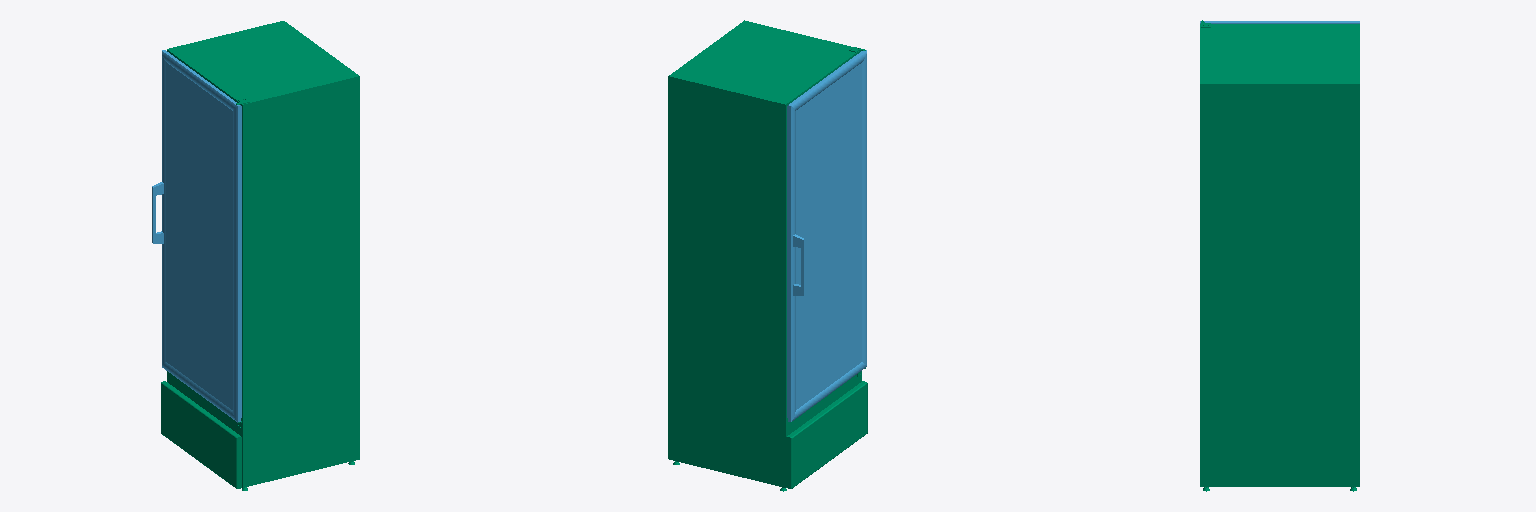
--- Facts derived from the render (not from the file) ---
3 views of the same robot in one strip: view 1: azimuth 30°, elevation 25°; view 2: azimuth 150°, elevation 25°; view 3: azimuth 270°, elevation 25° (orthographic).
Model partnet_93d69af3c0034d3d9807c66948157e66 with 3 links and 2 joints (1 revolute, 1 fixed), rooted at base, posed all joints at 0.
Visible links, largest first — view 1: link_1, link_0; view 2: link_1, link_0; view 3: link_1.
Link boxes in pixels (x1,y1,x2,y2): link_1: (161,21,359,490); link_0: (152,50,241,422); link_1: (668,20,867,491); link_0: (787,50,866,421); link_1: (1200,20,1359,491).
Size in the robot's own frame: 0.6791 by 0.67 by 1.89 metres.
120 mesh visuals loaded from 120 distinct referenced files (120 OBJ).

The robot description file, URDF, robot "partnet_93d69af3c0034d3d9807c66948157e66":
<?xml version="1.0" ?>
<robot name="partnet_93d69af3c0034d3d9807c66948157e66">
	<link name="base"/>
	<link name="link_0">
		<visual name="door_frame-10">
			<origin xyz="-0.32121962673618376 -0.9194099903106691 -0.30380600011286474"/>
			<geometry>
				<mesh filename="textured_objs/original-13.obj"/>
			</geometry>
		</visual>
		<visual name="handle-11">
			<origin xyz="-0.32121962673618376 -0.9194099903106691 -0.30380600011286474"/>
			<geometry>
				<mesh filename="textured_objs/original-11.obj"/>
			</geometry>
		</visual>
		<visual name="glass-12">
			<origin xyz="-0.32121962673618376 -0.9194099903106691 -0.30380600011286474"/>
			<geometry>
				<mesh filename="textured_objs/original-12.obj"/>
			</geometry>
		</visual>
		<collision>
			<origin xyz="-0.32121962673618376 -0.9194099903106691 -0.30380600011286474"/>
			<geometry>
				<mesh filename="textured_objs/original-13.obj"/>
			</geometry>
		</collision>
		<collision>
			<origin xyz="-0.32121962673618376 -0.9194099903106691 -0.30380600011286474"/>
			<geometry>
				<mesh filename="textured_objs/original-11.obj"/>
			</geometry>
		</collision>
		<collision>
			<origin xyz="-0.32121962673618376 -0.9194099903106691 -0.30380600011286474"/>
			<geometry>
				<mesh filename="textured_objs/original-12.obj"/>
			</geometry>
		</collision>
	</link>
	<joint name="joint_0" type="revolute">
		<origin xyz="0.32121962673618376 0.9194099903106691 0.30380600011286474"/>
		<axis xyz="0 1 0"/>
		<child link="link_0"/>
		<parent link="link_1"/>
		<limit lower="0.0" upper="2.0943951023931953"/>
	</joint>
	<link name="link_1">
		<visual name="foot-4">
			<origin xyz="0 0 0"/>
			<geometry>
				<mesh filename="textured_objs/original-10.obj"/>
			</geometry>
		</visual>
		<visual name="foot-5">
			<origin xyz="0 0 0"/>
			<geometry>
				<mesh filename="textured_objs/original-8.obj"/>
			</geometry>
		</visual>
		<visual name="foot-6">
			<origin xyz="0 0 0"/>
			<geometry>
				<mesh filename="textured_objs/original-7.obj"/>
			</geometry>
		</visual>
		<visual name="foot-7">
			<origin xyz="0 0 0"/>
			<geometry>
				<mesh filename="textured_objs/original-9.obj"/>
			</geometry>
		</visual>
		<visual name="frame-15">
			<origin xyz="0 0 0"/>
			<geometry>
				<mesh filename="textured_objs/original-2.obj"/>
			</geometry>
		</visual>
		<visual name="hinge-13">
			<origin xyz="0 0 0"/>
			<geometry>
				<mesh filename="textured_objs/original-5.obj"/>
			</geometry>
		</visual>
		<visual name="hinge-14">
			<origin xyz="0 0 0"/>
			<geometry>
				<mesh filename="textured_objs/original-6.obj"/>
			</geometry>
		</visual>
		<visual name="shelf-17">
			<origin xyz="0 0 0"/>
			<geometry>
				<mesh filename="textured_objs/original-74.obj"/>
			</geometry>
		</visual>
		<visual name="shelf-17">
			<origin xyz="0 0 0"/>
			<geometry>
				<mesh filename="textured_objs/original-72.obj"/>
			</geometry>
		</visual>
		<visual name="shelf-17">
			<origin xyz="0 0 0"/>
			<geometry>
				<mesh filename="textured_objs/original-126.obj"/>
			</geometry>
		</visual>
		<visual name="shelf-17">
			<origin xyz="0 0 0"/>
			<geometry>
				<mesh filename="textured_objs/original-123.obj"/>
			</geometry>
		</visual>
		<visual name="shelf-17">
			<origin xyz="0 0 0"/>
			<geometry>
				<mesh filename="textured_objs/original-127.obj"/>
			</geometry>
		</visual>
		<visual name="shelf-17">
			<origin xyz="0 0 0"/>
			<geometry>
				<mesh filename="textured_objs/original-104.obj"/>
			</geometry>
		</visual>
		<visual name="shelf-17">
			<origin xyz="0 0 0"/>
			<geometry>
				<mesh filename="textured_objs/original-85.obj"/>
			</geometry>
		</visual>
		<visual name="shelf-17">
			<origin xyz="0 0 0"/>
			<geometry>
				<mesh filename="textured_objs/original-102.obj"/>
			</geometry>
		</visual>
		<visual name="shelf-17">
			<origin xyz="0 0 0"/>
			<geometry>
				<mesh filename="textured_objs/original-84.obj"/>
			</geometry>
		</visual>
		<visual name="shelf-17">
			<origin xyz="0 0 0"/>
			<geometry>
				<mesh filename="textured_objs/original-114.obj"/>
			</geometry>
		</visual>
		<visual name="shelf-17">
			<origin xyz="0 0 0"/>
			<geometry>
				<mesh filename="textured_objs/original-103.obj"/>
			</geometry>
		</visual>
		<visual name="shelf-17">
			<origin xyz="0 0 0"/>
			<geometry>
				<mesh filename="textured_objs/original-108.obj"/>
			</geometry>
		</visual>
		<visual name="shelf-17">
			<origin xyz="0 0 0"/>
			<geometry>
				<mesh filename="textured_objs/original-92.obj"/>
			</geometry>
		</visual>
		<visual name="shelf-17">
			<origin xyz="0 0 0"/>
			<geometry>
				<mesh filename="textured_objs/original-99.obj"/>
			</geometry>
		</visual>
		<visual name="shelf-17">
			<origin xyz="0 0 0"/>
			<geometry>
				<mesh filename="textured_objs/original-125.obj"/>
			</geometry>
		</visual>
		<visual name="shelf-17">
			<origin xyz="0 0 0"/>
			<geometry>
				<mesh filename="textured_objs/original-79.obj"/>
			</geometry>
		</visual>
		<visual name="shelf-17">
			<origin xyz="0 0 0"/>
			<geometry>
				<mesh filename="textured_objs/original-100.obj"/>
			</geometry>
		</visual>
		<visual name="shelf-17">
			<origin xyz="0 0 0"/>
			<geometry>
				<mesh filename="textured_objs/original-113.obj"/>
			</geometry>
		</visual>
		<visual name="shelf-17">
			<origin xyz="0 0 0"/>
			<geometry>
				<mesh filename="textured_objs/original-122.obj"/>
			</geometry>
		</visual>
		<visual name="shelf-17">
			<origin xyz="0 0 0"/>
			<geometry>
				<mesh filename="textured_objs/original-110.obj"/>
			</geometry>
		</visual>
		<visual name="shelf-17">
			<origin xyz="0 0 0"/>
			<geometry>
				<mesh filename="textured_objs/original-80.obj"/>
			</geometry>
		</visual>
		<visual name="shelf-17">
			<origin xyz="0 0 0"/>
			<geometry>
				<mesh filename="textured_objs/original-129.obj"/>
			</geometry>
		</visual>
		<visual name="shelf-17">
			<origin xyz="0 0 0"/>
			<geometry>
				<mesh filename="textured_objs/original-109.obj"/>
			</geometry>
		</visual>
		<visual name="shelf-17">
			<origin xyz="0 0 0"/>
			<geometry>
				<mesh filename="textured_objs/original-112.obj"/>
			</geometry>
		</visual>
		<visual name="shelf-17">
			<origin xyz="0 0 0"/>
			<geometry>
				<mesh filename="textured_objs/original-128.obj"/>
			</geometry>
		</visual>
		<visual name="shelf-17">
			<origin xyz="0 0 0"/>
			<geometry>
				<mesh filename="textured_objs/original-117.obj"/>
			</geometry>
		</visual>
		<visual name="shelf-17">
			<origin xyz="0 0 0"/>
			<geometry>
				<mesh filename="textured_objs/original-78.obj"/>
			</geometry>
		</visual>
		<visual name="shelf-17">
			<origin xyz="0 0 0"/>
			<geometry>
				<mesh filename="textured_objs/original-121.obj"/>
			</geometry>
		</visual>
		<visual name="shelf-17">
			<origin xyz="0 0 0"/>
			<geometry>
				<mesh filename="textured_objs/original-119.obj"/>
			</geometry>
		</visual>
		<visual name="shelf-17">
			<origin xyz="0 0 0"/>
			<geometry>
				<mesh filename="textured_objs/original-118.obj"/>
			</geometry>
		</visual>
		<visual name="shelf-17">
			<origin xyz="0 0 0"/>
			<geometry>
				<mesh filename="textured_objs/original-107.obj"/>
			</geometry>
		</visual>
		<visual name="shelf-17">
			<origin xyz="0 0 0"/>
			<geometry>
				<mesh filename="textured_objs/original-116.obj"/>
			</geometry>
		</visual>
		<visual name="shelf-17">
			<origin xyz="0 0 0"/>
			<geometry>
				<mesh filename="textured_objs/original-93.obj"/>
			</geometry>
		</visual>
		<visual name="shelf-17">
			<origin xyz="0 0 0"/>
			<geometry>
				<mesh filename="textured_objs/original-124.obj"/>
			</geometry>
		</visual>
		<visual name="shelf-17">
			<origin xyz="0 0 0"/>
			<geometry>
				<mesh filename="textured_objs/original-95.obj"/>
			</geometry>
		</visual>
		<visual name="shelf-17">
			<origin xyz="0 0 0"/>
			<geometry>
				<mesh filename="textured_objs/original-111.obj"/>
			</geometry>
		</visual>
		<visual name="shelf-17">
			<origin xyz="0 0 0"/>
			<geometry>
				<mesh filename="textured_objs/original-106.obj"/>
			</geometry>
		</visual>
		<visual name="shelf-17">
			<origin xyz="0 0 0"/>
			<geometry>
				<mesh filename="textured_objs/original-105.obj"/>
			</geometry>
		</visual>
		<visual name="shelf-17">
			<origin xyz="0 0 0"/>
			<geometry>
				<mesh filename="textured_objs/original-97.obj"/>
			</geometry>
		</visual>
		<visual name="shelf-17">
			<origin xyz="0 0 0"/>
			<geometry>
				<mesh filename="textured_objs/original-77.obj"/>
			</geometry>
		</visual>
		<visual name="shelf-17">
			<origin xyz="0 0 0"/>
			<geometry>
				<mesh filename="textured_objs/original-88.obj"/>
			</geometry>
		</visual>
		<visual name="shelf-17">
			<origin xyz="0 0 0"/>
			<geometry>
				<mesh filename="textured_objs/original-115.obj"/>
			</geometry>
		</visual>
		<visual name="shelf-17">
			<origin xyz="0 0 0"/>
			<geometry>
				<mesh filename="textured_objs/original-101.obj"/>
			</geometry>
		</visual>
		<visual name="shelf-17">
			<origin xyz="0 0 0"/>
			<geometry>
				<mesh filename="textured_objs/original-98.obj"/>
			</geometry>
		</visual>
		<visual name="shelf-17">
			<origin xyz="0 0 0"/>
			<geometry>
				<mesh filename="textured_objs/original-120.obj"/>
			</geometry>
		</visual>
		<visual name="shelf-17">
			<origin xyz="0 0 0"/>
			<geometry>
				<mesh filename="textured_objs/original-96.obj"/>
			</geometry>
		</visual>
		<visual name="shelf-17">
			<origin xyz="0 0 0"/>
			<geometry>
				<mesh filename="textured_objs/original-91.obj"/>
			</geometry>
		</visual>
		<visual name="shelf-17">
			<origin xyz="0 0 0"/>
			<geometry>
				<mesh filename="textured_objs/original-94.obj"/>
			</geometry>
		</visual>
		<visual name="shelf-17">
			<origin xyz="0 0 0"/>
			<geometry>
				<mesh filename="textured_objs/original-82.obj"/>
			</geometry>
		</visual>
		<visual name="shelf-17">
			<origin xyz="0 0 0"/>
			<geometry>
				<mesh filename="textured_objs/original-87.obj"/>
			</geometry>
		</visual>
		<visual name="shelf-17">
			<origin xyz="0 0 0"/>
			<geometry>
				<mesh filename="textured_objs/original-90.obj"/>
			</geometry>
		</visual>
		<visual name="shelf-17">
			<origin xyz="0 0 0"/>
			<geometry>
				<mesh filename="textured_objs/original-86.obj"/>
			</geometry>
		</visual>
		<visual name="shelf-17">
			<origin xyz="0 0 0"/>
			<geometry>
				<mesh filename="textured_objs/original-83.obj"/>
			</geometry>
		</visual>
		<visual name="shelf-17">
			<origin xyz="0 0 0"/>
			<geometry>
				<mesh filename="textured_objs/original-81.obj"/>
			</geometry>
		</visual>
		<visual name="shelf-17">
			<origin xyz="0 0 0"/>
			<geometry>
				<mesh filename="textured_objs/original-89.obj"/>
			</geometry>
		</visual>
		<visual name="shelf-18">
			<origin xyz="0 0 0"/>
			<geometry>
				<mesh filename="textured_objs/original-15.obj"/>
			</geometry>
		</visual>
		<visual name="shelf-18">
			<origin xyz="0 0 0"/>
			<geometry>
				<mesh filename="textured_objs/original-70.obj"/>
			</geometry>
		</visual>
		<visual name="shelf-18">
			<origin xyz="0 0 0"/>
			<geometry>
				<mesh filename="textured_objs/original-66.obj"/>
			</geometry>
		</visual>
		<visual name="shelf-18">
			<origin xyz="0 0 0"/>
			<geometry>
				<mesh filename="textured_objs/original-63.obj"/>
			</geometry>
		</visual>
		<visual name="shelf-18">
			<origin xyz="0 0 0"/>
			<geometry>
				<mesh filename="textured_objs/original-67.obj"/>
			</geometry>
		</visual>
		<visual name="shelf-18">
			<origin xyz="0 0 0"/>
			<geometry>
				<mesh filename="textured_objs/original-44.obj"/>
			</geometry>
		</visual>
		<visual name="shelf-18">
			<origin xyz="0 0 0"/>
			<geometry>
				<mesh filename="textured_objs/original-42.obj"/>
			</geometry>
		</visual>
		<visual name="shelf-18">
			<origin xyz="0 0 0"/>
			<geometry>
				<mesh filename="textured_objs/original-25.obj"/>
			</geometry>
		</visual>
		<visual name="shelf-18">
			<origin xyz="0 0 0"/>
			<geometry>
				<mesh filename="textured_objs/original-24.obj"/>
			</geometry>
		</visual>
		<visual name="shelf-18">
			<origin xyz="0 0 0"/>
			<geometry>
				<mesh filename="textured_objs/original-54.obj"/>
			</geometry>
		</visual>
		<visual name="shelf-18">
			<origin xyz="0 0 0"/>
			<geometry>
				<mesh filename="textured_objs/original-43.obj"/>
			</geometry>
		</visual>
		<visual name="shelf-18">
			<origin xyz="0 0 0"/>
			<geometry>
				<mesh filename="textured_objs/original-48.obj"/>
			</geometry>
		</visual>
		<visual name="shelf-18">
			<origin xyz="0 0 0"/>
			<geometry>
				<mesh filename="textured_objs/original-32.obj"/>
			</geometry>
		</visual>
		<visual name="shelf-18">
			<origin xyz="0 0 0"/>
			<geometry>
				<mesh filename="textured_objs/original-39.obj"/>
			</geometry>
		</visual>
		<visual name="shelf-18">
			<origin xyz="0 0 0"/>
			<geometry>
				<mesh filename="textured_objs/original-65.obj"/>
			</geometry>
		</visual>
		<visual name="shelf-18">
			<origin xyz="0 0 0"/>
			<geometry>
				<mesh filename="textured_objs/original-19.obj"/>
			</geometry>
		</visual>
		<visual name="shelf-18">
			<origin xyz="0 0 0"/>
			<geometry>
				<mesh filename="textured_objs/original-40.obj"/>
			</geometry>
		</visual>
		<visual name="shelf-18">
			<origin xyz="0 0 0"/>
			<geometry>
				<mesh filename="textured_objs/original-53.obj"/>
			</geometry>
		</visual>
		<visual name="shelf-18">
			<origin xyz="0 0 0"/>
			<geometry>
				<mesh filename="textured_objs/original-62.obj"/>
			</geometry>
		</visual>
		<visual name="shelf-18">
			<origin xyz="0 0 0"/>
			<geometry>
				<mesh filename="textured_objs/original-50.obj"/>
			</geometry>
		</visual>
		<visual name="shelf-18">
			<origin xyz="0 0 0"/>
			<geometry>
				<mesh filename="textured_objs/original-20.obj"/>
			</geometry>
		</visual>
		<visual name="shelf-18">
			<origin xyz="0 0 0"/>
			<geometry>
				<mesh filename="textured_objs/original-69.obj"/>
			</geometry>
		</visual>
		<visual name="shelf-18">
			<origin xyz="0 0 0"/>
			<geometry>
				<mesh filename="textured_objs/original-49.obj"/>
			</geometry>
		</visual>
		<visual name="shelf-18">
			<origin xyz="0 0 0"/>
			<geometry>
				<mesh filename="textured_objs/original-52.obj"/>
			</geometry>
		</visual>
		<visual name="shelf-18">
			<origin xyz="0 0 0"/>
			<geometry>
				<mesh filename="textured_objs/original-68.obj"/>
			</geometry>
		</visual>
		<visual name="shelf-18">
			<origin xyz="0 0 0"/>
			<geometry>
				<mesh filename="textured_objs/original-57.obj"/>
			</geometry>
		</visual>
		<visual name="shelf-18">
			<origin xyz="0 0 0"/>
			<geometry>
				<mesh filename="textured_objs/original-18.obj"/>
			</geometry>
		</visual>
		<visual name="shelf-18">
			<origin xyz="0 0 0"/>
			<geometry>
				<mesh filename="textured_objs/original-61.obj"/>
			</geometry>
		</visual>
		<visual name="shelf-18">
			<origin xyz="0 0 0"/>
			<geometry>
				<mesh filename="textured_objs/original-59.obj"/>
			</geometry>
		</visual>
		<visual name="shelf-18">
			<origin xyz="0 0 0"/>
			<geometry>
				<mesh filename="textured_objs/original-58.obj"/>
			</geometry>
		</visual>
		<visual name="shelf-18">
			<origin xyz="0 0 0"/>
			<geometry>
				<mesh filename="textured_objs/original-47.obj"/>
			</geometry>
		</visual>
		<visual name="shelf-18">
			<origin xyz="0 0 0"/>
			<geometry>
				<mesh filename="textured_objs/original-56.obj"/>
			</geometry>
		</visual>
		<visual name="shelf-18">
			<origin xyz="0 0 0"/>
			<geometry>
				<mesh filename="textured_objs/original-33.obj"/>
			</geometry>
		</visual>
		<visual name="shelf-18">
			<origin xyz="0 0 0"/>
			<geometry>
				<mesh filename="textured_objs/original-64.obj"/>
			</geometry>
		</visual>
		<visual name="shelf-18">
			<origin xyz="0 0 0"/>
			<geometry>
				<mesh filename="textured_objs/original-35.obj"/>
			</geometry>
		</visual>
		<visual name="shelf-18">
			<origin xyz="0 0 0"/>
			<geometry>
				<mesh filename="textured_objs/original-51.obj"/>
			</geometry>
		</visual>
		<visual name="shelf-18">
			<origin xyz="0 0 0"/>
			<geometry>
				<mesh filename="textured_objs/original-46.obj"/>
			</geometry>
		</visual>
		<visual name="shelf-18">
			<origin xyz="0 0 0"/>
			<geometry>
				<mesh filename="textured_objs/original-45.obj"/>
			</geometry>
		</visual>
		<visual name="shelf-18">
			<origin xyz="0 0 0"/>
			<geometry>
				<mesh filename="textured_objs/original-37.obj"/>
			</geometry>
		</visual>
		<visual name="shelf-18">
			<origin xyz="0 0 0"/>
			<geometry>
				<mesh filename="textured_objs/original-17.obj"/>
			</geometry>
		</visual>
		<visual name="shelf-18">
			<origin xyz="0 0 0"/>
			<geometry>
				<mesh filename="textured_objs/original-28.obj"/>
			</geometry>
		</visual>
		<visual name="shelf-18">
			<origin xyz="0 0 0"/>
			<geometry>
				<mesh filename="textured_objs/original-55.obj"/>
			</geometry>
		</visual>
		<visual name="shelf-18">
			<origin xyz="0 0 0"/>
			<geometry>
				<mesh filename="textured_objs/original-41.obj"/>
			</geometry>
		</visual>
		<visual name="shelf-18">
			<origin xyz="0 0 0"/>
			<geometry>
				<mesh filename="textured_objs/original-38.obj"/>
			</geometry>
		</visual>
		<visual name="shelf-18">
			<origin xyz="0 0 0"/>
			<geometry>
				<mesh filename="textured_objs/original-60.obj"/>
			</geometry>
		</visual>
		<visual name="shelf-18">
			<origin xyz="0 0 0"/>
			<geometry>
				<mesh filename="textured_objs/original-36.obj"/>
			</geometry>
		</visual>
		<visual name="shelf-18">
			<origin xyz="0 0 0"/>
			<geometry>
				<mesh filename="textured_objs/original-31.obj"/>
			</geometry>
		</visual>
		<visual name="shelf-18">
			<origin xyz="0 0 0"/>
			<geometry>
				<mesh filename="textured_objs/original-34.obj"/>
			</geometry>
		</visual>
		<visual name="shelf-18">
			<origin xyz="0 0 0"/>
			<geometry>
				<mesh filename="textured_objs/original-22.obj"/>
			</geometry>
		</visual>
		<visual name="shelf-18">
			<origin xyz="0 0 0"/>
			<geometry>
				<mesh filename="textured_objs/original-27.obj"/>
			</geometry>
		</visual>
		<visual name="shelf-18">
			<origin xyz="0 0 0"/>
			<geometry>
				<mesh filename="textured_objs/original-30.obj"/>
			</geometry>
		</visual>
		<visual name="shelf-18">
			<origin xyz="0 0 0"/>
			<geometry>
				<mesh filename="textured_objs/original-26.obj"/>
			</geometry>
		</visual>
		<visual name="shelf-18">
			<origin xyz="0 0 0"/>
			<geometry>
				<mesh filename="textured_objs/original-23.obj"/>
			</geometry>
		</visual>
		<visual name="shelf-18">
			<origin xyz="0 0 0"/>
			<geometry>
				<mesh filename="textured_objs/original-21.obj"/>
			</geometry>
		</visual>
		<visual name="shelf-18">
			<origin xyz="0 0 0"/>
			<geometry>
				<mesh filename="textured_objs/original-29.obj"/>
			</geometry>
		</visual>
		<collision>
			<origin xyz="0 0 0"/>
			<geometry>
				<mesh filename="textured_objs/original-10.obj"/>
			</geometry>
		</collision>
		<collision>
			<origin xyz="0 0 0"/>
			<geometry>
				<mesh filename="textured_objs/original-8.obj"/>
			</geometry>
		</collision>
		<collision>
			<origin xyz="0 0 0"/>
			<geometry>
				<mesh filename="textured_objs/original-7.obj"/>
			</geometry>
		</collision>
		<collision>
			<origin xyz="0 0 0"/>
			<geometry>
				<mesh filename="textured_objs/original-9.obj"/>
			</geometry>
		</collision>
		<collision>
			<origin xyz="0 0 0"/>
			<geometry>
				<mesh filename="textured_objs/original-2.obj"/>
			</geometry>
		</collision>
		<collision>
			<origin xyz="0 0 0"/>
			<geometry>
				<mesh filename="textured_objs/original-5.obj"/>
			</geometry>
		</collision>
		<collision>
			<origin xyz="0 0 0"/>
			<geometry>
				<mesh filename="textured_objs/original-6.obj"/>
			</geometry>
		</collision>
		<collision>
			<origin xyz="0 0 0"/>
			<geometry>
				<mesh filename="textured_objs/original-74.obj"/>
			</geometry>
		</collision>
		<collision>
			<origin xyz="0 0 0"/>
			<geometry>
				<mesh filename="textured_objs/original-72.obj"/>
			</geometry>
		</collision>
		<collision>
			<origin xyz="0 0 0"/>
			<geometry>
				<mesh filename="textured_objs/original-126.obj"/>
			</geometry>
		</collision>
		<collision>
			<origin xyz="0 0 0"/>
			<geometry>
				<mesh filename="textured_objs/original-123.obj"/>
			</geometry>
		</collision>
		<collision>
			<origin xyz="0 0 0"/>
			<geometry>
				<mesh filename="textured_objs/original-127.obj"/>
			</geometry>
		</collision>
		<collision>
			<origin xyz="0 0 0"/>
			<geometry>
				<mesh filename="textured_objs/original-104.obj"/>
			</geometry>
		</collision>
		<collision>
			<origin xyz="0 0 0"/>
			<geometry>
				<mesh filename="textured_objs/original-85.obj"/>
			</geometry>
		</collision>
		<collision>
			<origin xyz="0 0 0"/>
			<geometry>
				<mesh filename="textured_objs/original-102.obj"/>
			</geometry>
		</collision>
		<collision>
			<origin xyz="0 0 0"/>
			<geometry>
				<mesh filename="textured_objs/original-84.obj"/>
			</geometry>
		</collision>
		<collision>
			<origin xyz="0 0 0"/>
			<geometry>
				<mesh filename="textured_objs/original-114.obj"/>
			</geometry>
		</collision>
		<collision>
			<origin xyz="0 0 0"/>
			<geometry>
				<mesh filename="textured_objs/original-103.obj"/>
			</geometry>
		</collision>
		<collision>
			<origin xyz="0 0 0"/>
			<geometry>
				<mesh filename="textured_objs/original-108.obj"/>
			</geometry>
		</collision>
		<collision>
			<origin xyz="0 0 0"/>
			<geometry>
				<mesh filename="textured_objs/original-92.obj"/>
			</geometry>
		</collision>
		<collision>
			<origin xyz="0 0 0"/>
			<geometry>
				<mesh filename="textured_objs/original-99.obj"/>
			</geometry>
		</collision>
		<collision>
			<origin xyz="0 0 0"/>
			<geometry>
				<mesh filename="textured_objs/original-125.obj"/>
			</geometry>
		</collision>
		<collision>
			<origin xyz="0 0 0"/>
			<geometry>
				<mesh filename="textured_objs/original-79.obj"/>
			</geometry>
		</collision>
		<collision>
			<origin xyz="0 0 0"/>
			<geometry>
				<mesh filename="textured_objs/original-100.obj"/>
			</geometry>
		</collision>
		<collision>
			<origin xyz="0 0 0"/>
			<geometry>
				<mesh filename="textured_objs/original-113.obj"/>
			</geometry>
		</collision>
		<collision>
			<origin xyz="0 0 0"/>
			<geometry>
				<mesh filename="textured_objs/original-122.obj"/>
			</geometry>
		</collision>
		<collision>
			<origin xyz="0 0 0"/>
			<geometry>
				<mesh filename="textured_objs/original-110.obj"/>
			</geometry>
		</collision>
		<collision>
			<origin xyz="0 0 0"/>
			<geometry>
				<mesh filename="textured_objs/original-80.obj"/>
			</geometry>
		</collision>
		<collision>
			<origin xyz="0 0 0"/>
			<geometry>
				<mesh filename="textured_objs/original-129.obj"/>
			</geometry>
		</collision>
		<collision>
			<origin xyz="0 0 0"/>
			<geometry>
				<mesh filename="textured_objs/original-109.obj"/>
			</geometry>
		</collision>
		<collision>
			<origin xyz="0 0 0"/>
			<geometry>
				<mesh filename="textured_objs/original-112.obj"/>
			</geometry>
		</collision>
		<collision>
			<origin xyz="0 0 0"/>
			<geometry>
				<mesh filename="textured_objs/original-128.obj"/>
			</geometry>
		</collision>
		<collision>
			<origin xyz="0 0 0"/>
			<geometry>
				<mesh filename="textured_objs/original-117.obj"/>
			</geometry>
		</collision>
		<collision>
			<origin xyz="0 0 0"/>
			<geometry>
				<mesh filename="textured_objs/original-78.obj"/>
			</geometry>
		</collision>
		<collision>
			<origin xyz="0 0 0"/>
			<geometry>
				<mesh filename="textured_objs/original-121.obj"/>
			</geometry>
		</collision>
		<collision>
			<origin xyz="0 0 0"/>
			<geometry>
				<mesh filename="textured_objs/original-119.obj"/>
			</geometry>
		</collision>
		<collision>
			<origin xyz="0 0 0"/>
			<geometry>
				<mesh filename="textured_objs/original-118.obj"/>
			</geometry>
		</collision>
		<collision>
			<origin xyz="0 0 0"/>
			<geometry>
				<mesh filename="textured_objs/original-107.obj"/>
			</geometry>
		</collision>
		<collision>
			<origin xyz="0 0 0"/>
			<geometry>
				<mesh filename="textured_objs/original-116.obj"/>
			</geometry>
		</collision>
		<collision>
			<origin xyz="0 0 0"/>
			<geometry>
				<mesh filename="textured_objs/original-93.obj"/>
			</geometry>
		</collision>
		<collision>
			<origin xyz="0 0 0"/>
			<geometry>
				<mesh filename="textured_objs/original-124.obj"/>
			</geometry>
		</collision>
		<collision>
			<origin xyz="0 0 0"/>
			<geometry>
				<mesh filename="textured_objs/original-95.obj"/>
			</geometry>
		</collision>
		<collision>
			<origin xyz="0 0 0"/>
			<geometry>
				<mesh filename="textured_objs/original-111.obj"/>
			</geometry>
		</collision>
		<collision>
			<origin xyz="0 0 0"/>
			<geometry>
				<mesh filename="textured_objs/original-106.obj"/>
			</geometry>
		</collision>
		<collision>
			<origin xyz="0 0 0"/>
			<geometry>
				<mesh filename="textured_objs/original-105.obj"/>
			</geometry>
		</collision>
		<collision>
			<origin xyz="0 0 0"/>
			<geometry>
				<mesh filename="textured_objs/original-97.obj"/>
			</geometry>
		</collision>
		<collision>
			<origin xyz="0 0 0"/>
			<geometry>
				<mesh filename="textured_objs/original-77.obj"/>
			</geometry>
		</collision>
		<collision>
			<origin xyz="0 0 0"/>
			<geometry>
				<mesh filename="textured_objs/original-88.obj"/>
			</geometry>
		</collision>
		<collision>
			<origin xyz="0 0 0"/>
			<geometry>
				<mesh filename="textured_objs/original-115.obj"/>
			</geometry>
		</collision>
		<collision>
			<origin xyz="0 0 0"/>
			<geometry>
				<mesh filename="textured_objs/original-101.obj"/>
			</geometry>
		</collision>
		<collision>
			<origin xyz="0 0 0"/>
			<geometry>
				<mesh filename="textured_objs/original-98.obj"/>
			</geometry>
		</collision>
		<collision>
			<origin xyz="0 0 0"/>
			<geometry>
				<mesh filename="textured_objs/original-120.obj"/>
			</geometry>
		</collision>
		<collision>
			<origin xyz="0 0 0"/>
			<geometry>
				<mesh filename="textured_objs/original-96.obj"/>
			</geometry>
		</collision>
		<collision>
			<origin xyz="0 0 0"/>
			<geometry>
				<mesh filename="textured_objs/original-91.obj"/>
			</geometry>
		</collision>
		<collision>
			<origin xyz="0 0 0"/>
			<geometry>
				<mesh filename="textured_objs/original-94.obj"/>
			</geometry>
		</collision>
		<collision>
			<origin xyz="0 0 0"/>
			<geometry>
				<mesh filename="textured_objs/original-82.obj"/>
			</geometry>
		</collision>
		<collision>
			<origin xyz="0 0 0"/>
			<geometry>
				<mesh filename="textured_objs/original-87.obj"/>
			</geometry>
		</collision>
		<collision>
			<origin xyz="0 0 0"/>
			<geometry>
				<mesh filename="textured_objs/original-90.obj"/>
			</geometry>
		</collision>
		<collision>
			<origin xyz="0 0 0"/>
			<geometry>
				<mesh filename="textured_objs/original-86.obj"/>
			</geometry>
		</collision>
		<collision>
			<origin xyz="0 0 0"/>
			<geometry>
				<mesh filename="textured_objs/original-83.obj"/>
			</geometry>
		</collision>
		<collision>
			<origin xyz="0 0 0"/>
			<geometry>
				<mesh filename="textured_objs/original-81.obj"/>
			</geometry>
		</collision>
		<collision>
			<origin xyz="0 0 0"/>
			<geometry>
				<mesh filename="textured_objs/original-89.obj"/>
			</geometry>
		</collision>
		<collision>
			<origin xyz="0 0 0"/>
			<geometry>
				<mesh filename="textured_objs/original-15.obj"/>
			</geometry>
		</collision>
		<collision>
			<origin xyz="0 0 0"/>
			<geometry>
				<mesh filename="textured_objs/original-70.obj"/>
			</geometry>
		</collision>
		<collision>
			<origin xyz="0 0 0"/>
			<geometry>
				<mesh filename="textured_objs/original-66.obj"/>
			</geometry>
		</collision>
		<collision>
			<origin xyz="0 0 0"/>
			<geometry>
				<mesh filename="textured_objs/original-63.obj"/>
			</geometry>
		</collision>
		<collision>
			<origin xyz="0 0 0"/>
			<geometry>
				<mesh filename="textured_objs/original-67.obj"/>
			</geometry>
		</collision>
		<collision>
			<origin xyz="0 0 0"/>
			<geometry>
				<mesh filename="textured_objs/original-44.obj"/>
			</geometry>
		</collision>
		<collision>
			<origin xyz="0 0 0"/>
			<geometry>
				<mesh filename="textured_objs/original-42.obj"/>
			</geometry>
		</collision>
		<collision>
			<origin xyz="0 0 0"/>
			<geometry>
				<mesh filename="textured_objs/original-25.obj"/>
			</geometry>
		</collision>
		<collision>
			<origin xyz="0 0 0"/>
			<geometry>
				<mesh filename="textured_objs/original-24.obj"/>
			</geometry>
		</collision>
		<collision>
			<origin xyz="0 0 0"/>
			<geometry>
				<mesh filename="textured_objs/original-54.obj"/>
			</geometry>
		</collision>
		<collision>
			<origin xyz="0 0 0"/>
			<geometry>
				<mesh filename="textured_objs/original-43.obj"/>
			</geometry>
		</collision>
		<collision>
			<origin xyz="0 0 0"/>
			<geometry>
				<mesh filename="textured_objs/original-48.obj"/>
			</geometry>
		</collision>
		<collision>
			<origin xyz="0 0 0"/>
			<geometry>
				<mesh filename="textured_objs/original-32.obj"/>
			</geometry>
		</collision>
		<collision>
			<origin xyz="0 0 0"/>
			<geometry>
				<mesh filename="textured_objs/original-39.obj"/>
			</geometry>
		</collision>
		<collision>
			<origin xyz="0 0 0"/>
			<geometry>
				<mesh filename="textured_objs/original-65.obj"/>
			</geometry>
		</collision>
		<collision>
			<origin xyz="0 0 0"/>
			<geometry>
				<mesh filename="textured_objs/original-19.obj"/>
			</geometry>
		</collision>
		<collision>
			<origin xyz="0 0 0"/>
			<geometry>
				<mesh filename="textured_objs/original-40.obj"/>
			</geometry>
		</collision>
		<collision>
			<origin xyz="0 0 0"/>
			<geometry>
				<mesh filename="textured_objs/original-53.obj"/>
			</geometry>
		</collision>
		<collision>
			<origin xyz="0 0 0"/>
			<geometry>
				<mesh filename="textured_objs/original-62.obj"/>
			</geometry>
		</collision>
		<collision>
			<origin xyz="0 0 0"/>
			<geometry>
				<mesh filename="textured_objs/original-50.obj"/>
			</geometry>
		</collision>
		<collision>
			<origin xyz="0 0 0"/>
			<geometry>
				<mesh filename="textured_objs/original-20.obj"/>
			</geometry>
		</collision>
		<collision>
			<origin xyz="0 0 0"/>
			<geometry>
				<mesh filename="textured_objs/original-69.obj"/>
			</geometry>
		</collision>
		<collision>
			<origin xyz="0 0 0"/>
			<geometry>
				<mesh filename="textured_objs/original-49.obj"/>
			</geometry>
		</collision>
		<collision>
			<origin xyz="0 0 0"/>
			<geometry>
				<mesh filename="textured_objs/original-52.obj"/>
			</geometry>
		</collision>
		<collision>
			<origin xyz="0 0 0"/>
			<geometry>
				<mesh filename="textured_objs/original-68.obj"/>
			</geometry>
		</collision>
		<collision>
			<origin xyz="0 0 0"/>
			<geometry>
				<mesh filename="textured_objs/original-57.obj"/>
			</geometry>
		</collision>
		<collision>
			<origin xyz="0 0 0"/>
			<geometry>
				<mesh filename="textured_objs/original-18.obj"/>
			</geometry>
		</collision>
		<collision>
			<origin xyz="0 0 0"/>
			<geometry>
				<mesh filename="textured_objs/original-61.obj"/>
			</geometry>
		</collision>
		<collision>
			<origin xyz="0 0 0"/>
			<geometry>
				<mesh filename="textured_objs/original-59.obj"/>
			</geometry>
		</collision>
		<collision>
			<origin xyz="0 0 0"/>
			<geometry>
				<mesh filename="textured_objs/original-58.obj"/>
			</geometry>
		</collision>
		<collision>
			<origin xyz="0 0 0"/>
			<geometry>
				<mesh filename="textured_objs/original-47.obj"/>
			</geometry>
		</collision>
		<collision>
			<origin xyz="0 0 0"/>
			<geometry>
				<mesh filename="textured_objs/original-56.obj"/>
			</geometry>
		</collision>
		<collision>
			<origin xyz="0 0 0"/>
			<geometry>
				<mesh filename="textured_objs/original-33.obj"/>
			</geometry>
		</collision>
		<collision>
			<origin xyz="0 0 0"/>
			<geometry>
				<mesh filename="textured_objs/original-64.obj"/>
			</geometry>
		</collision>
		<collision>
			<origin xyz="0 0 0"/>
			<geometry>
				<mesh filename="textured_objs/original-35.obj"/>
			</geometry>
		</collision>
		<collision>
			<origin xyz="0 0 0"/>
			<geometry>
				<mesh filename="textured_objs/original-51.obj"/>
			</geometry>
		</collision>
		<collision>
			<origin xyz="0 0 0"/>
			<geometry>
				<mesh filename="textured_objs/original-46.obj"/>
			</geometry>
		</collision>
		<collision>
			<origin xyz="0 0 0"/>
			<geometry>
				<mesh filename="textured_objs/original-45.obj"/>
			</geometry>
		</collision>
		<collision>
			<origin xyz="0 0 0"/>
			<geometry>
				<mesh filename="textured_objs/original-37.obj"/>
			</geometry>
		</collision>
		<collision>
			<origin xyz="0 0 0"/>
			<geometry>
				<mesh filename="textured_objs/original-17.obj"/>
			</geometry>
		</collision>
		<collision>
			<origin xyz="0 0 0"/>
			<geometry>
				<mesh filename="textured_objs/original-28.obj"/>
			</geometry>
		</collision>
		<collision>
			<origin xyz="0 0 0"/>
			<geometry>
				<mesh filename="textured_objs/original-55.obj"/>
			</geometry>
		</collision>
		<collision>
			<origin xyz="0 0 0"/>
			<geometry>
				<mesh filename="textured_objs/original-41.obj"/>
			</geometry>
		</collision>
		<collision>
			<origin xyz="0 0 0"/>
			<geometry>
				<mesh filename="textured_objs/original-38.obj"/>
			</geometry>
		</collision>
		<collision>
			<origin xyz="0 0 0"/>
			<geometry>
				<mesh filename="textured_objs/original-60.obj"/>
			</geometry>
		</collision>
		<collision>
			<origin xyz="0 0 0"/>
			<geometry>
				<mesh filename="textured_objs/original-36.obj"/>
			</geometry>
		</collision>
		<collision>
			<origin xyz="0 0 0"/>
			<geometry>
				<mesh filename="textured_objs/original-31.obj"/>
			</geometry>
		</collision>
		<collision>
			<origin xyz="0 0 0"/>
			<geometry>
				<mesh filename="textured_objs/original-34.obj"/>
			</geometry>
		</collision>
		<collision>
			<origin xyz="0 0 0"/>
			<geometry>
				<mesh filename="textured_objs/original-22.obj"/>
			</geometry>
		</collision>
		<collision>
			<origin xyz="0 0 0"/>
			<geometry>
				<mesh filename="textured_objs/original-27.obj"/>
			</geometry>
		</collision>
		<collision>
			<origin xyz="0 0 0"/>
			<geometry>
				<mesh filename="textured_objs/original-30.obj"/>
			</geometry>
		</collision>
		<collision>
			<origin xyz="0 0 0"/>
			<geometry>
				<mesh filename="textured_objs/original-26.obj"/>
			</geometry>
		</collision>
		<collision>
			<origin xyz="0 0 0"/>
			<geometry>
				<mesh filename="textured_objs/original-23.obj"/>
			</geometry>
		</collision>
		<collision>
			<origin xyz="0 0 0"/>
			<geometry>
				<mesh filename="textured_objs/original-21.obj"/>
			</geometry>
		</collision>
		<collision>
			<origin xyz="0 0 0"/>
			<geometry>
				<mesh filename="textured_objs/original-29.obj"/>
			</geometry>
		</collision>
	</link>
	<joint name="joint_1" type="fixed">
		<origin rpy="1.570796326794897 0 -1.570796326794897" xyz="0 0 0"/>
		<child link="link_1"/>
		<parent link="base"/>
	</joint>
</robot>
